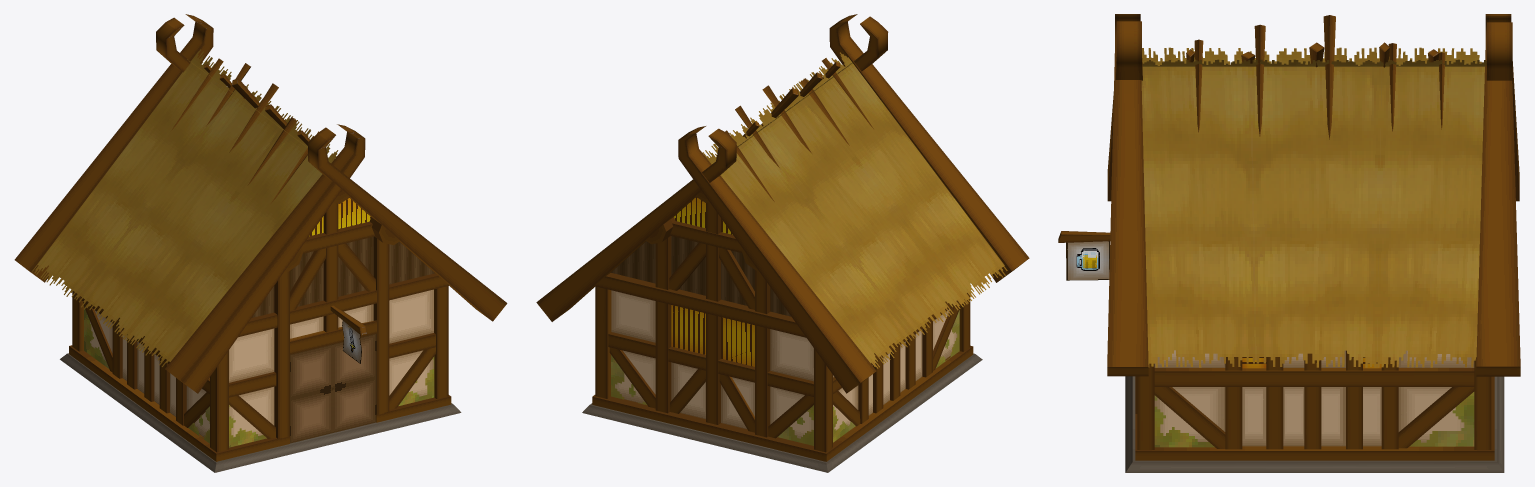
The model's file is house3.44833380.glb.
3 views of the same model, side by side, from view 1: azimuth 30°, elevation 25°; view 2: azimuth 150°, elevation 25°; view 3: azimuth 270°, elevation 25° (orthographic). The views are drawn at different scales.
Visible parts, largest first — view 1: Object_2; view 2: Object_2; view 3: Object_2.
Boxes of the visible parts, x1=… form: Object_2: x1=14, y1=14, x2=507, y2=472; Object_2: x1=536, y1=14, x2=1029, y2=472; Object_2: x1=1058, y1=14, x2=1520, y2=472.
Bounding box in the file's own units: 1.02 × 0.9351 × 1.03.
1 material, 1 textured.
